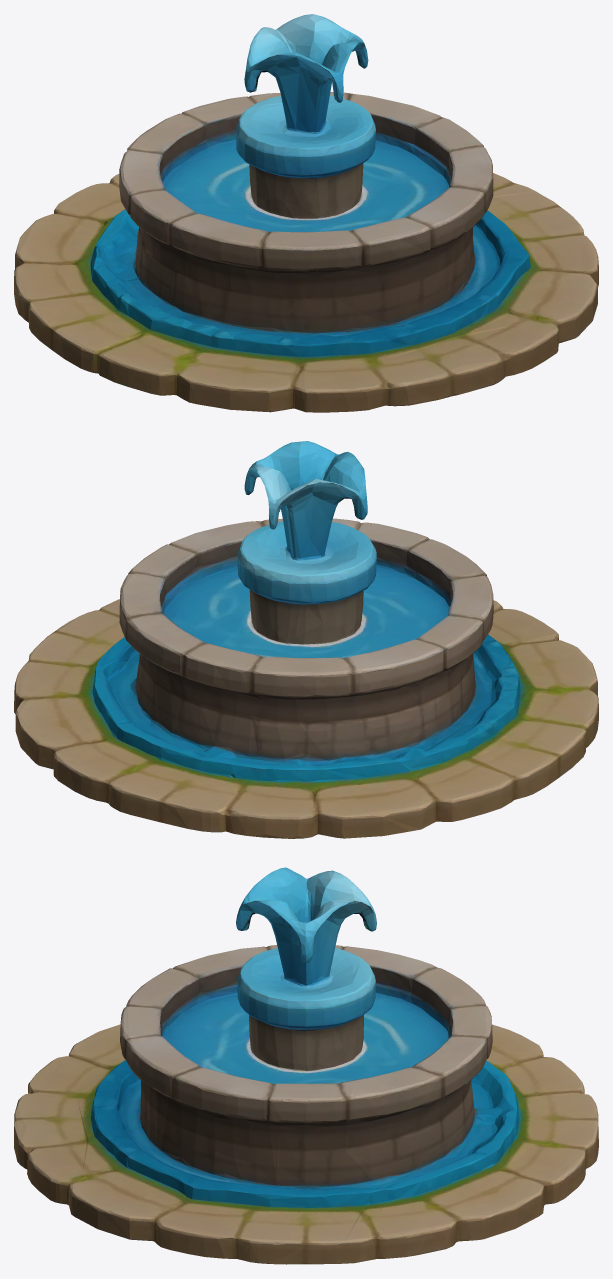
Rendered from fountain.glb.
3 views of the same model, one above another, from view 1: azimuth 30°, elevation 25°; view 2: azimuth 150°, elevation 25°; view 3: azimuth 270°, elevation 25° (orthographic).
Visible parts, largest first — view 1: geometry_0; view 2: geometry_0; view 3: geometry_0.
Part boxes in pixels (left/top/right/bottom): geometry_0: left=14, top=14, right=598, bottom=412; geometry_0: left=14, top=441, right=598, bottom=838; geometry_0: left=14, top=867, right=598, bottom=1264.
Bounding box in the file's own units: 0.9992 × 0.4819 × 0.9991.
1 material, 1 textured.
